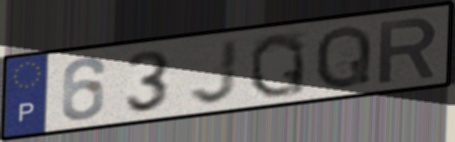3: (123, 48, 174, 114)
6: (58, 55, 108, 122)
J: (187, 37, 241, 107)
Q: (312, 22, 374, 92), (247, 30, 308, 100)
R: (376, 15, 441, 86)
